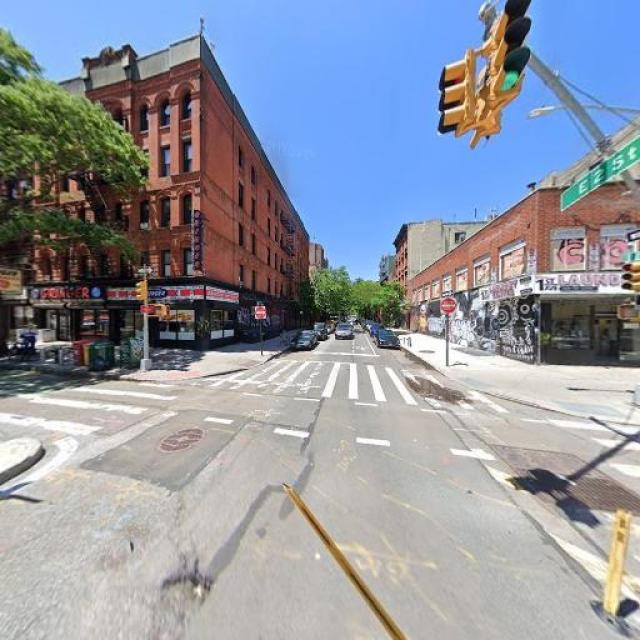Building: (1, 45, 284, 350), (409, 175, 640, 367)
